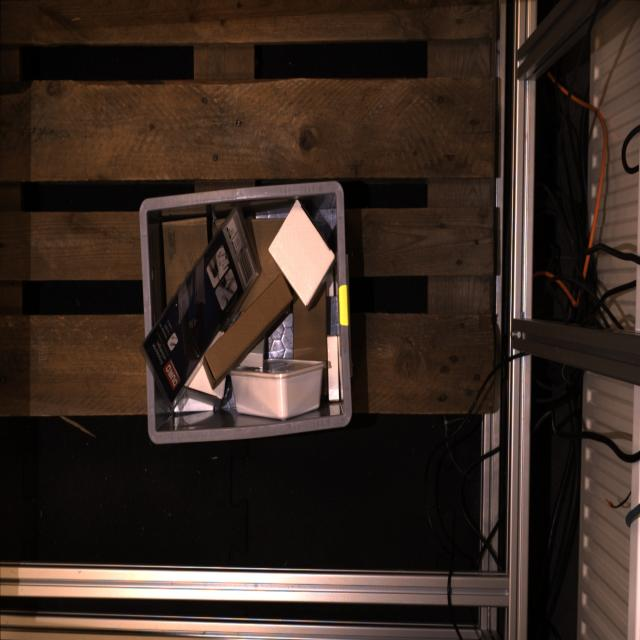CardboardBox: (202, 273, 293, 388), (268, 198, 335, 309), (241, 219, 284, 310), (163, 217, 207, 301), (293, 284, 327, 361), (189, 364, 224, 398), (327, 335, 339, 402), (239, 340, 264, 370), (212, 219, 225, 236), (326, 273, 334, 297)
ItemPackaging: (140, 205, 262, 411)
PlasticContainer: (232, 357, 326, 418)
